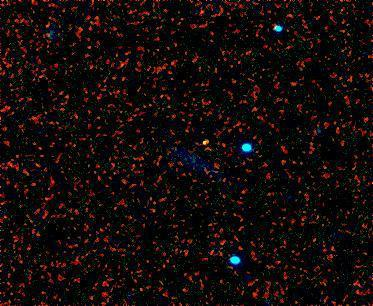star: (191, 130, 221, 160)
